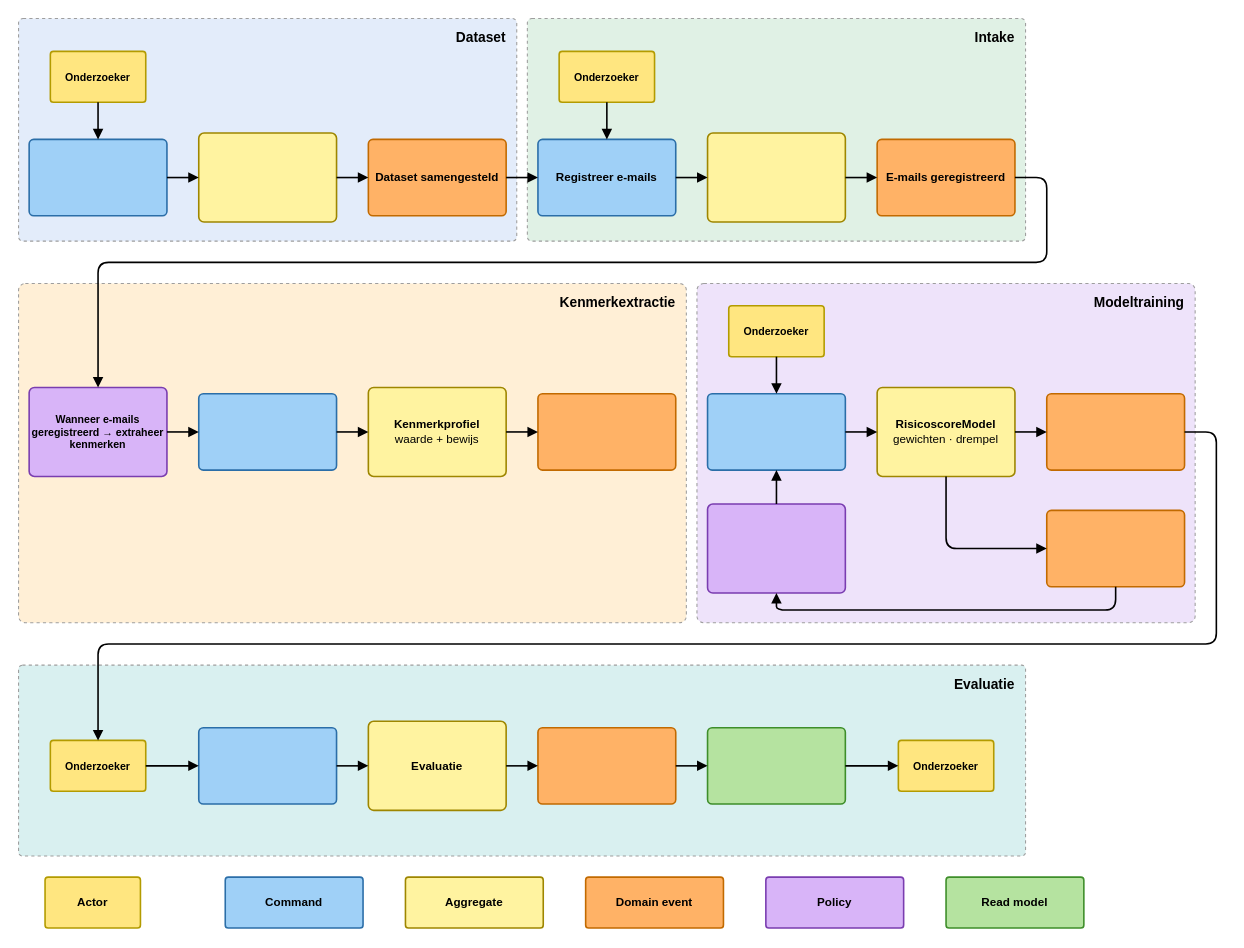
This 1244x948 diagram has some shape labels left out. Each missing label, with the centre of its shape:
Dataset trainset · testset: the point at 267,177
Email: the point at 776,177
Evaluatieverslag FPR, precision, recall: the point at 776,765
Evalueer model op testset: the point at 267,765
Extraheer kenmerken: the point at 267,431
Kenmerken geëxtraheerd: the point at 606,431
Model getraind FPR ≤ 3% op cross-validation: the point at 1115,431
Model geëvalueerd: the point at 606,765
Model verworpen FPR > 3% op cross-validation: the point at 1115,548
Stel dataset samen: the point at 97,177
Train model op trainset: the point at 776,431
Wanneer model verworpen → train model opnieuw: the point at 776,548
